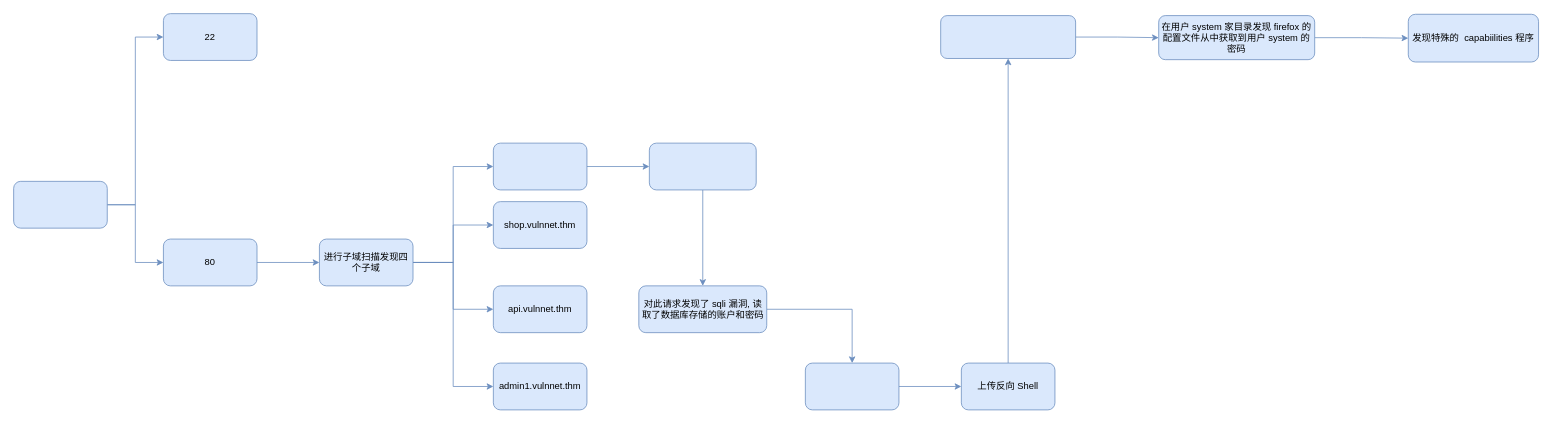
Image size: 1552x424. Some labels were removed from this diagram. The centre of each missing label's shape, as x and y in pixels:
blog.vulnnet.thm: point 540,166
发现一个 typo3 的 CMS , 利用之前得到的账号进行登陆: point 852,386
发现在此域中会调用 api 域执行一个查询请求: point 702,166
端口扫描: point 60,204
获取到用户 www-data 的 Shell: point 1008,36
